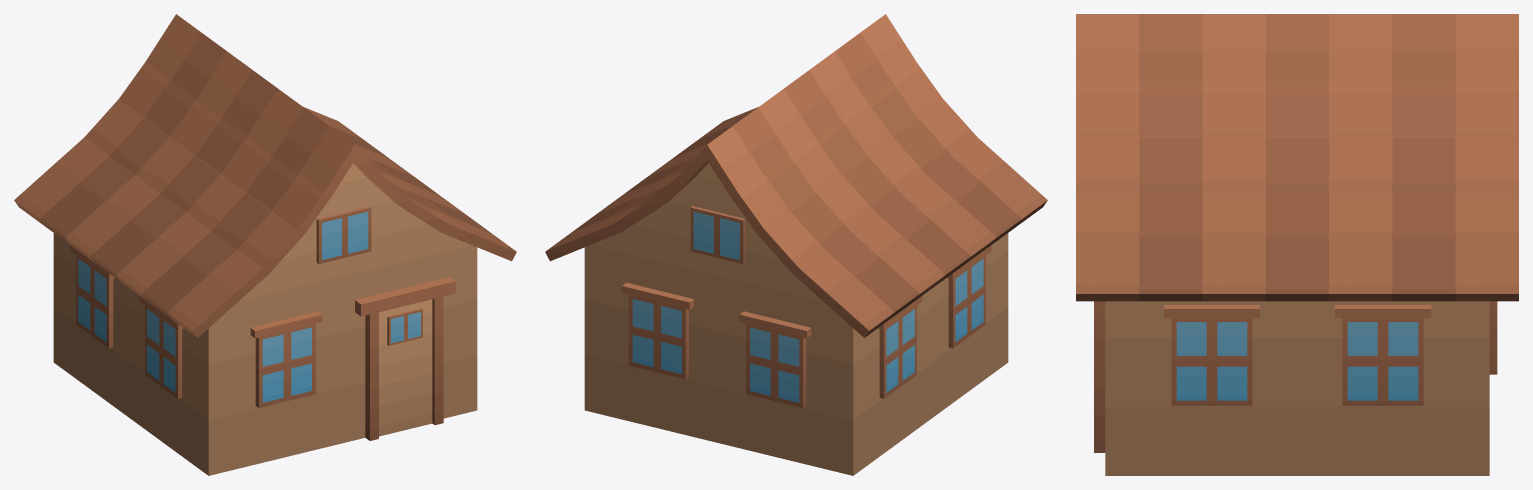
File: wooden_house_1.glb
The picture shows the model from 3 angles, left to right: view 1: azimuth 30°, elevation 25°; view 2: azimuth 150°, elevation 25°; view 3: azimuth 270°, elevation 25°; orthographic projection. The views are drawn at different scales.
Visible parts, largest first — view 1: wooden_house_1; view 2: wooden_house_1; view 3: wooden_house_1.
Part boxes in pixels (box(x1,y1,x2,y2)): wooden_house_1: box(14, 14, 516, 475); wooden_house_1: box(545, 14, 1047, 475); wooden_house_1: box(1076, 14, 1518, 475).
Bounding box in the file's own units: 5.3 × 4.8 × 5.06.
1 material, 1 textured.
